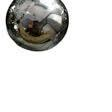ironball: (5, 0, 75, 58)
